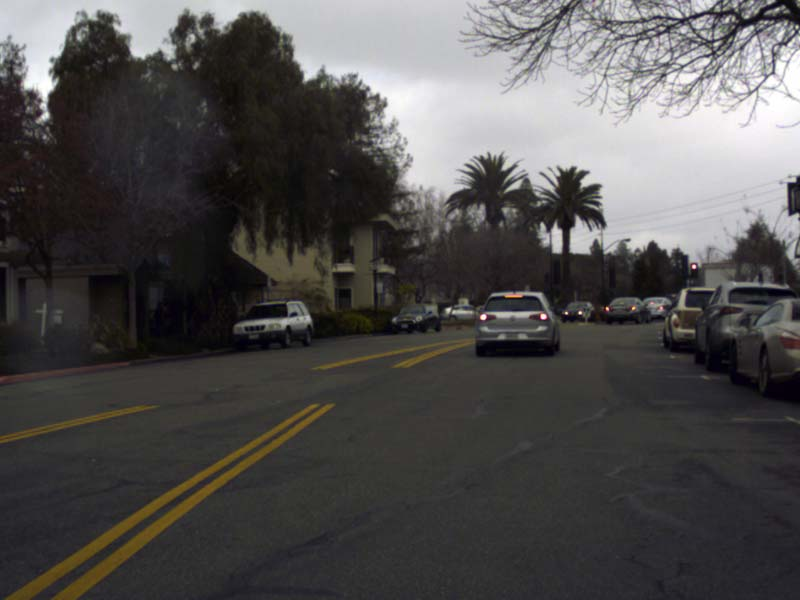Red: (690, 262, 697, 278)
